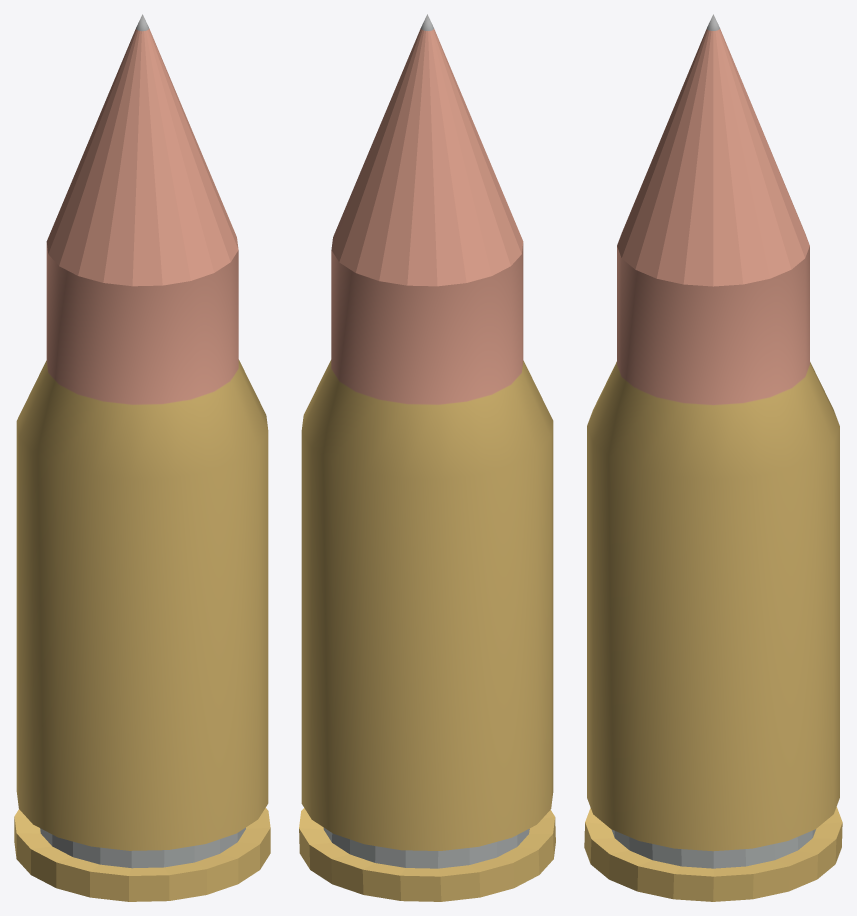
File: bullet model af.fbx
The picture shows the model from 3 angles, left to right: view 1: azimuth 30°, elevation 25°; view 2: azimuth 150°, elevation 25°; view 3: azimuth 270°, elevation 25°; orthographic projection.
Visible parts, largest first — view 1: pCone2; view 2: pCone2; view 3: pCone2.
Boxes of the visible parts, box(x1,y1,x2,y2) form: pCone2: box(14, 14, 270, 901); pCone2: box(299, 14, 555, 901); pCone2: box(584, 14, 842, 901).
Size of the model in its own units: 4.08 by 14.54 by 4.08.
1 material, 1 textured.
